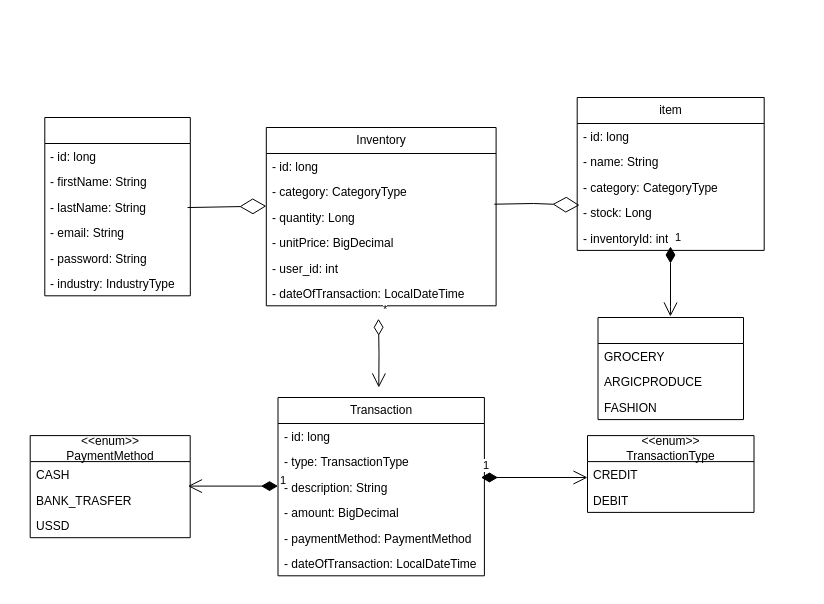
This 824x604 diagram has some shape labels left out. Each missing label, with the box of its shape:
<<enum>> Category: (597, 316, 744, 420)
User: (44, 116, 190, 296)
